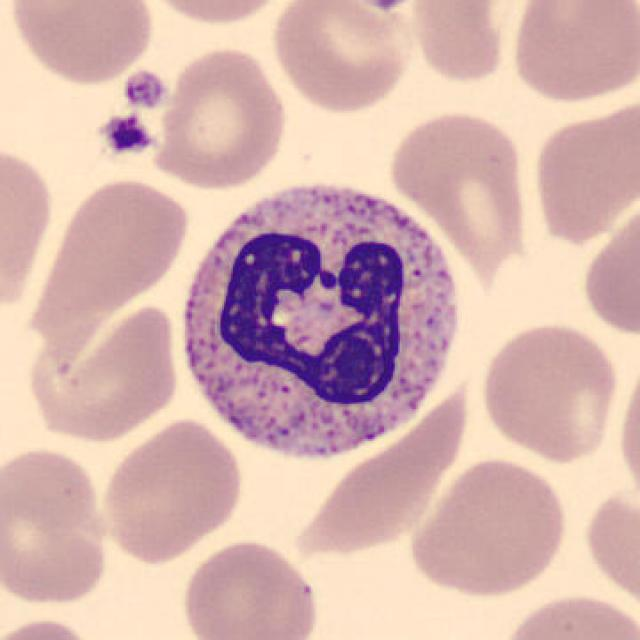Neutrophil: (169, 166, 473, 481)
Platelets: (96, 113, 156, 157), (121, 65, 171, 113), (354, 0, 414, 14)
RBC: (284, 374, 476, 560), (403, 453, 572, 600), (386, 106, 532, 275), (21, 300, 185, 444), (37, 173, 194, 319), (96, 414, 247, 564), (475, 318, 622, 466), (151, 42, 290, 194), (0, 444, 114, 610), (268, 0, 416, 115), (528, 93, 638, 247), (178, 536, 324, 640), (505, 0, 638, 106), (5, 0, 158, 88), (0, 138, 57, 319), (407, 0, 515, 86), (578, 194, 638, 340), (578, 483, 638, 614), (494, 589, 638, 640), (137, 0, 295, 28), (613, 344, 640, 506), (0, 613, 103, 640)
